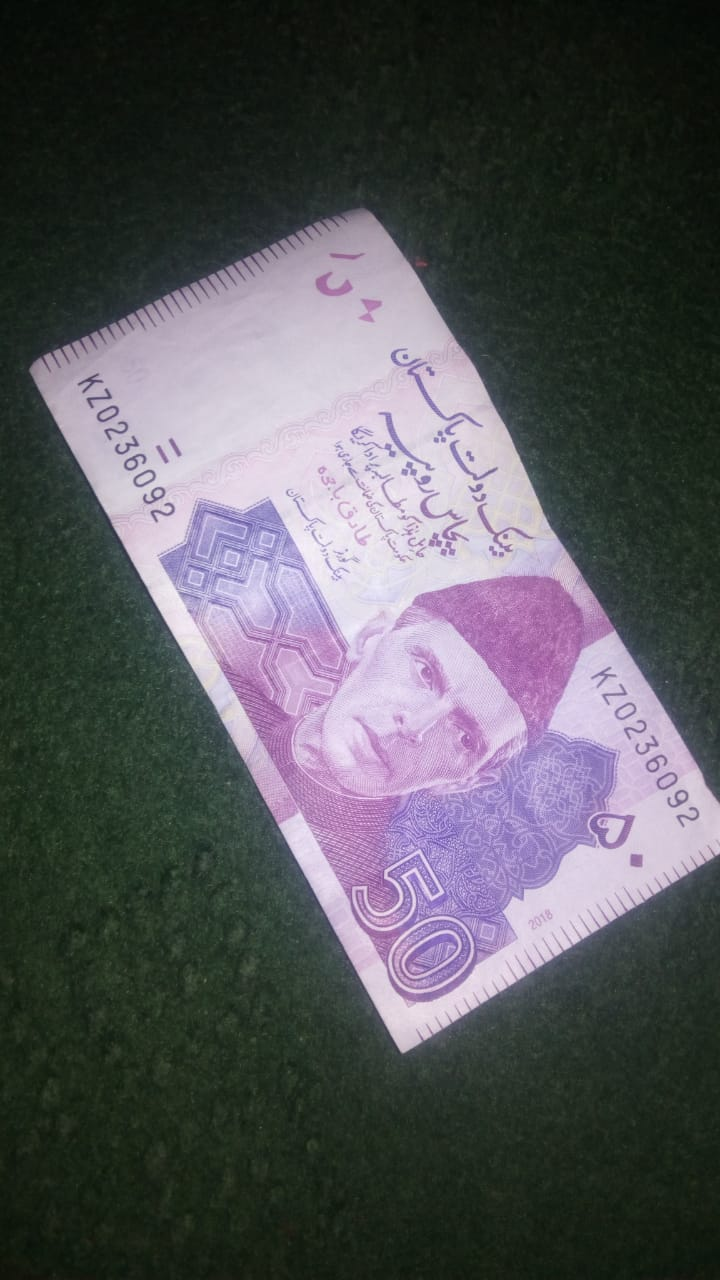50 rupee: (25, 196, 709, 1068)
